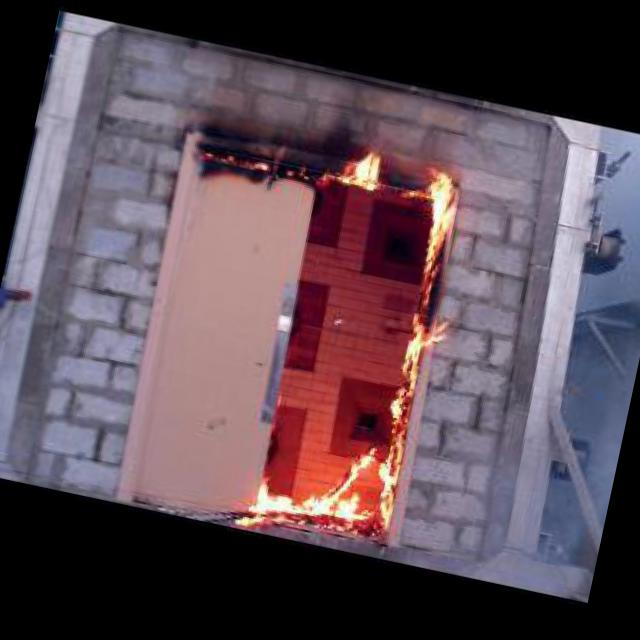fire: (135, 112, 476, 553)
